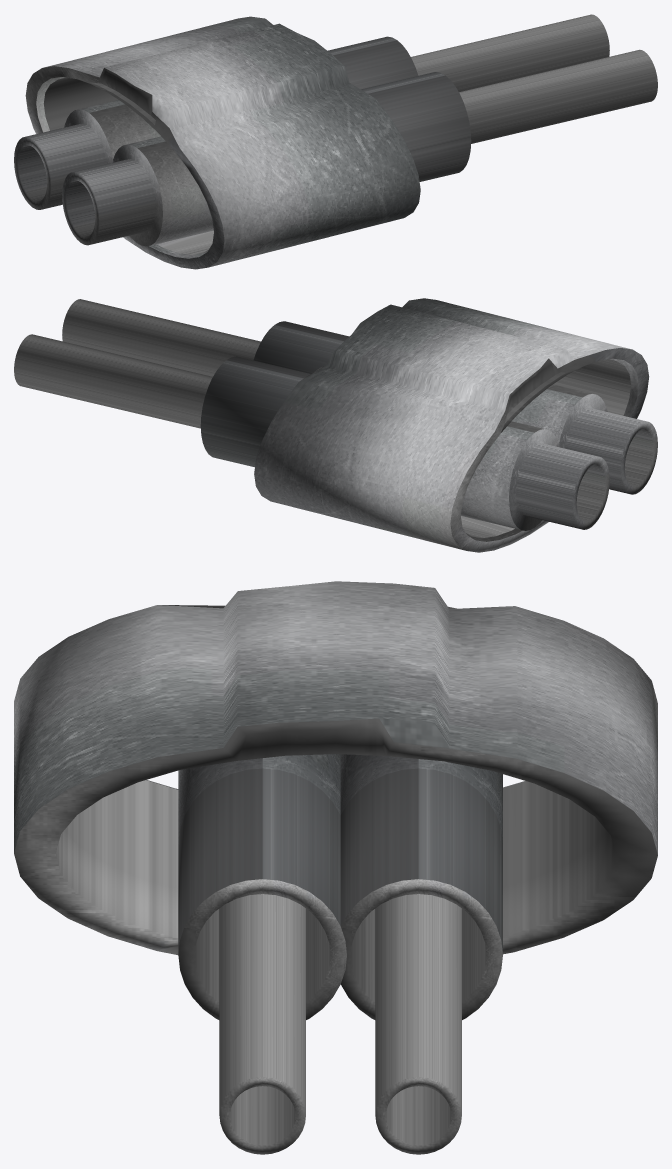
Rendered from pieza5.fbx.
3 renders of one model, top to bottom at view 1: azimuth 30°, elevation 25°; view 2: azimuth 150°, elevation 25°; view 3: azimuth 270°, elevation 25°, orthographic. The views are drawn at different scales.
Parts seen in each view (by area): view 1: Cylinder.068; view 2: Cylinder.068; view 3: Cylinder.068.
Boxes of the visible parts, x1=… form: Cylinder.068: x1=14, y1=14, x2=657, y2=269; Cylinder.068: x1=14, y1=298, x2=657, y2=552; Cylinder.068: x1=14, y1=581, x2=657, y2=1154.
Bounding box in the file's own units: 382 × 98.85 × 233.
3 materials, 3 textured.
